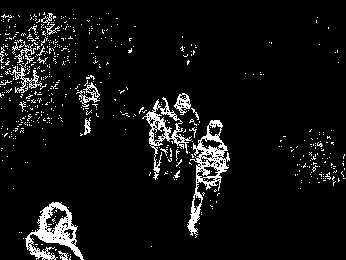person: (197, 117, 227, 240), (145, 94, 174, 186), (76, 71, 104, 147), (179, 94, 193, 187)
